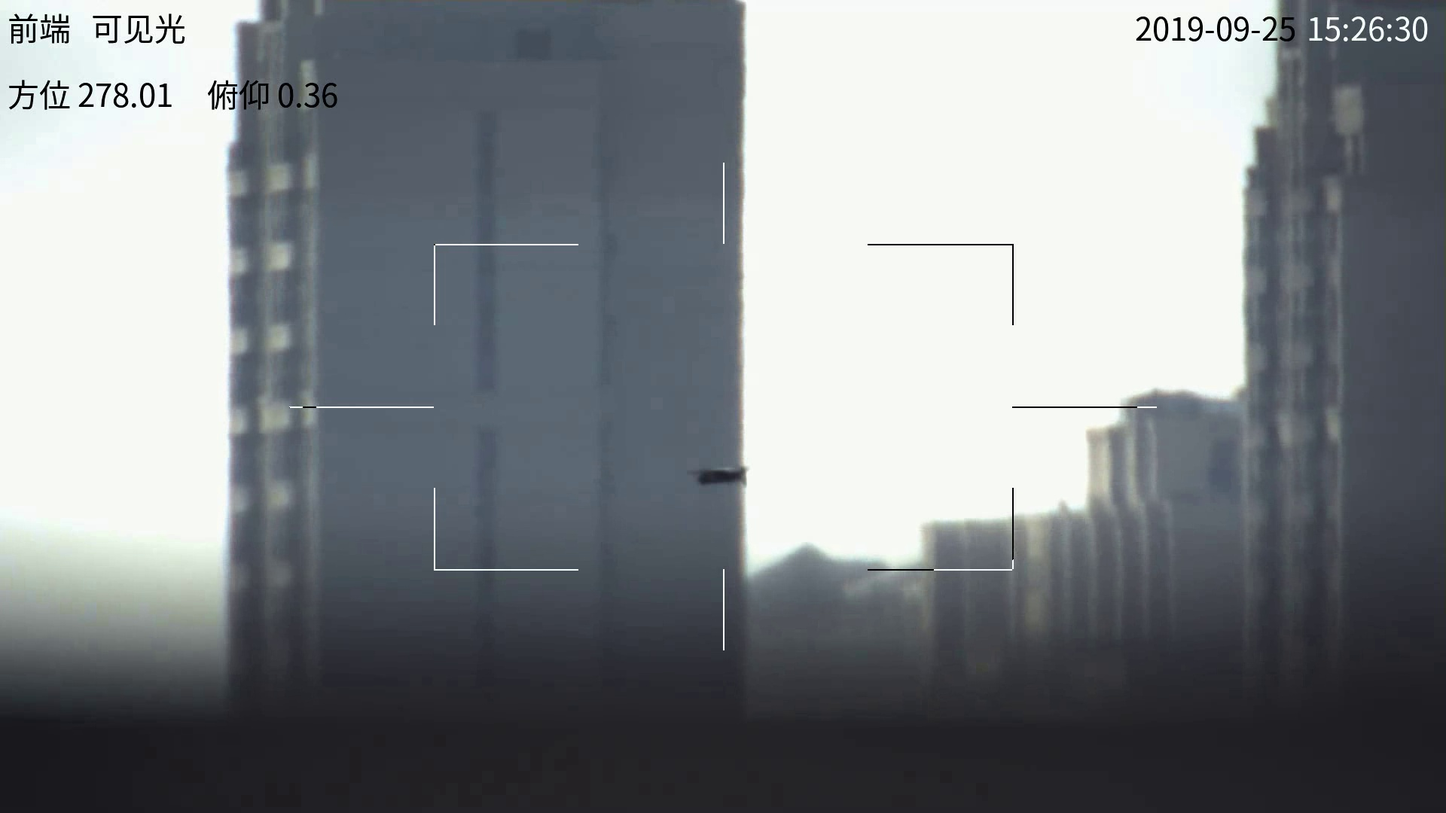drone_other: (693, 465, 752, 487)
